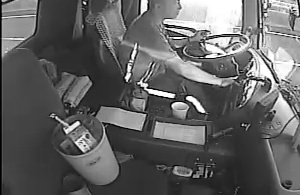cup: (169, 100, 189, 119)
